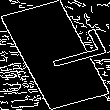L_W: (14, 32, 96, 78)
